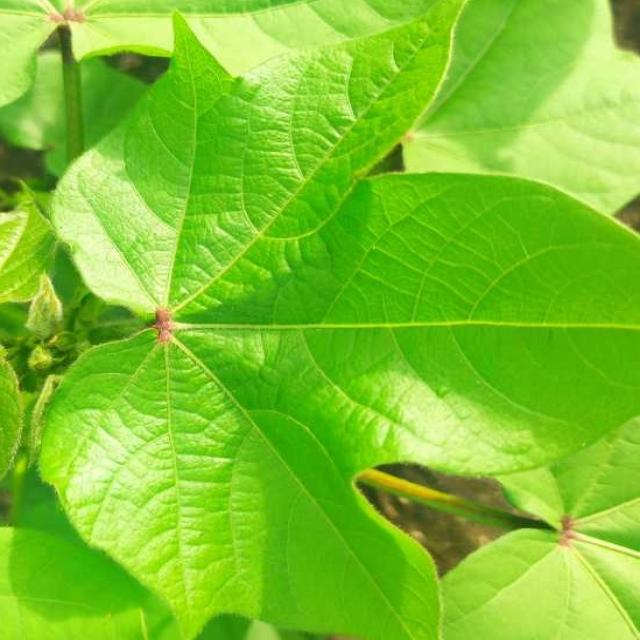Healthy Leaf: (9, 7, 640, 640)
